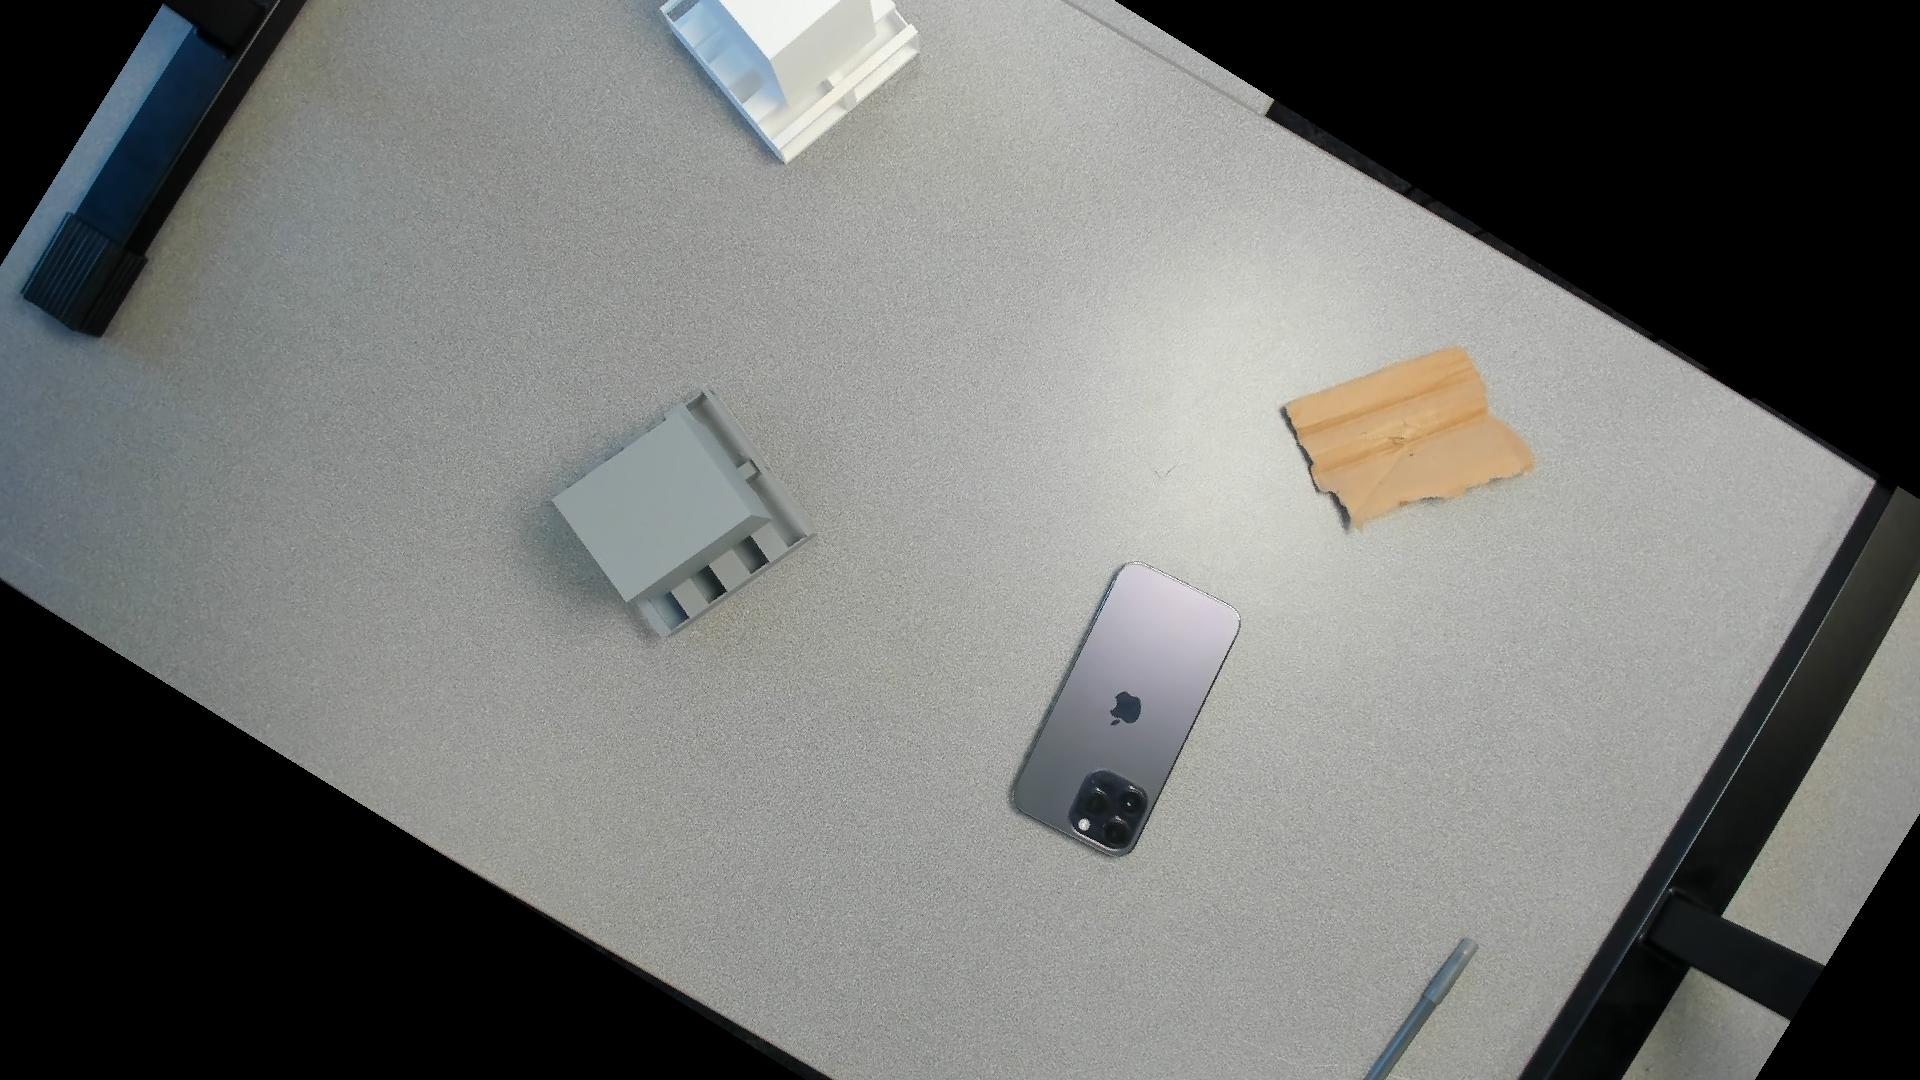grey pallet: (551, 388, 833, 644)
white pallet: (644, 1, 926, 179)
